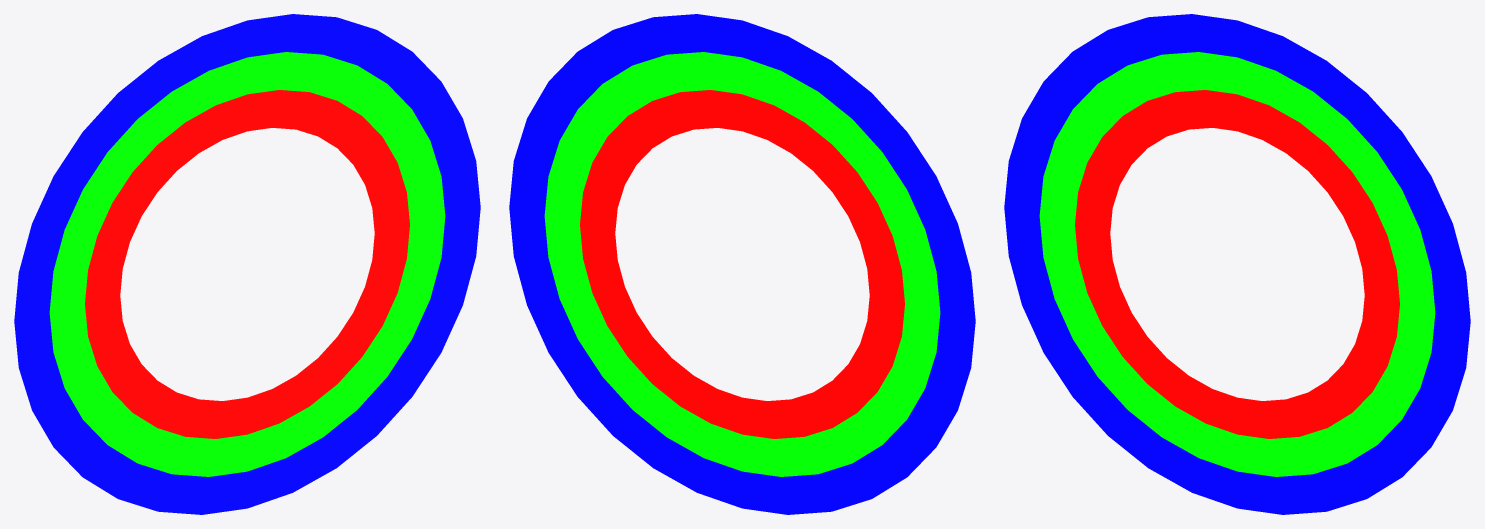
File: tsc_emission.dae
The picture shows the model from 3 angles, left to right: view 1: azimuth 30°, elevation 25°; view 2: azimuth 150°, elevation 25°; view 3: azimuth 330°, elevation 25°; orthographic projection.
Bounding box in the file's own units: 66 × 66 × 0.
